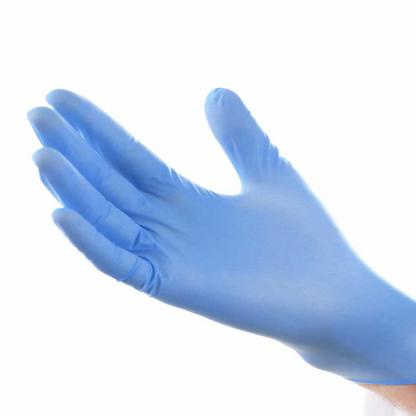with_gloves: (22, 83, 416, 403)
